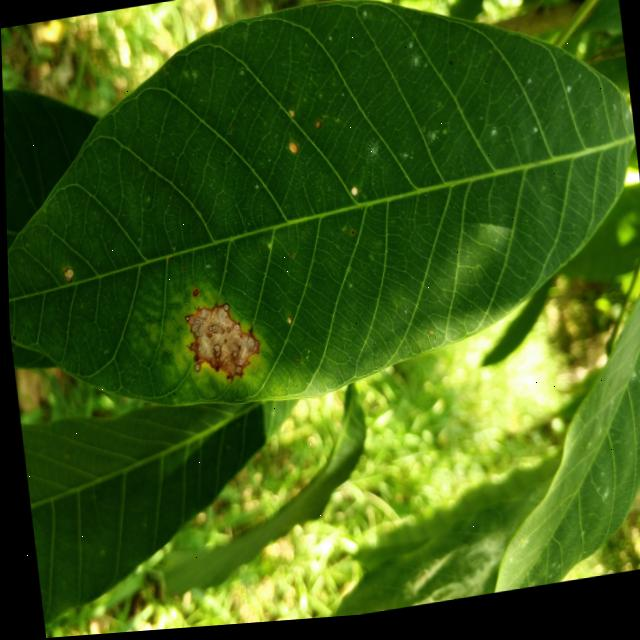Colletotrichum: (60, 267, 74, 283), (287, 144, 297, 157), (348, 189, 357, 201), (314, 123, 321, 133), (220, 305, 228, 313), (211, 345, 218, 354), (191, 365, 198, 373), (183, 317, 188, 323), (192, 357, 196, 362), (224, 330, 228, 334), (245, 351, 248, 355)
Leaf-Blight: (181, 301, 260, 385)
